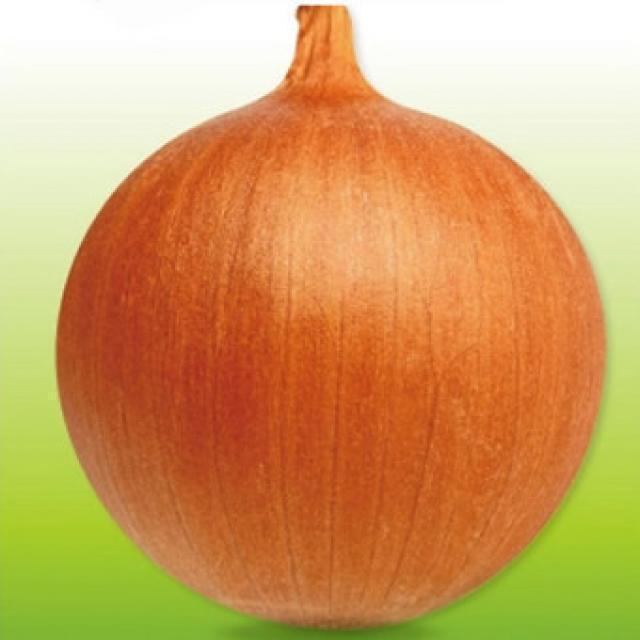Onion: (55, 4, 610, 631)
